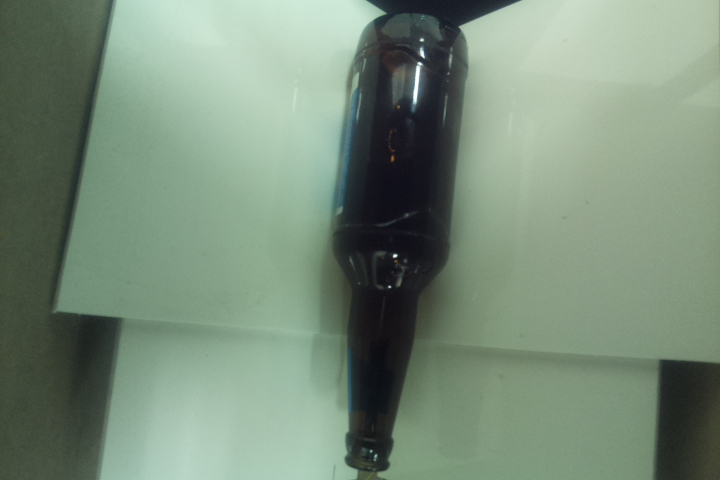makju: (326, 9, 472, 473)
